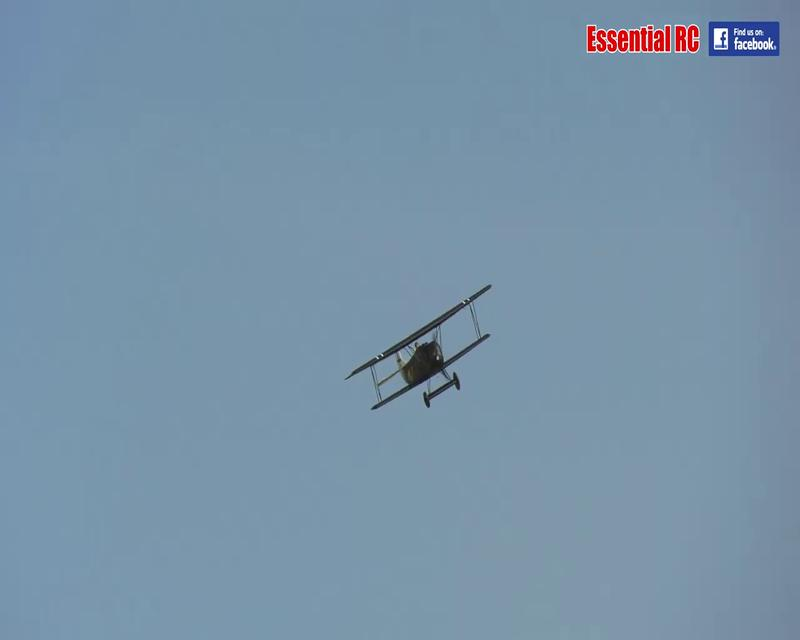UAV: (343, 282, 492, 411), (585, 22, 700, 54)
